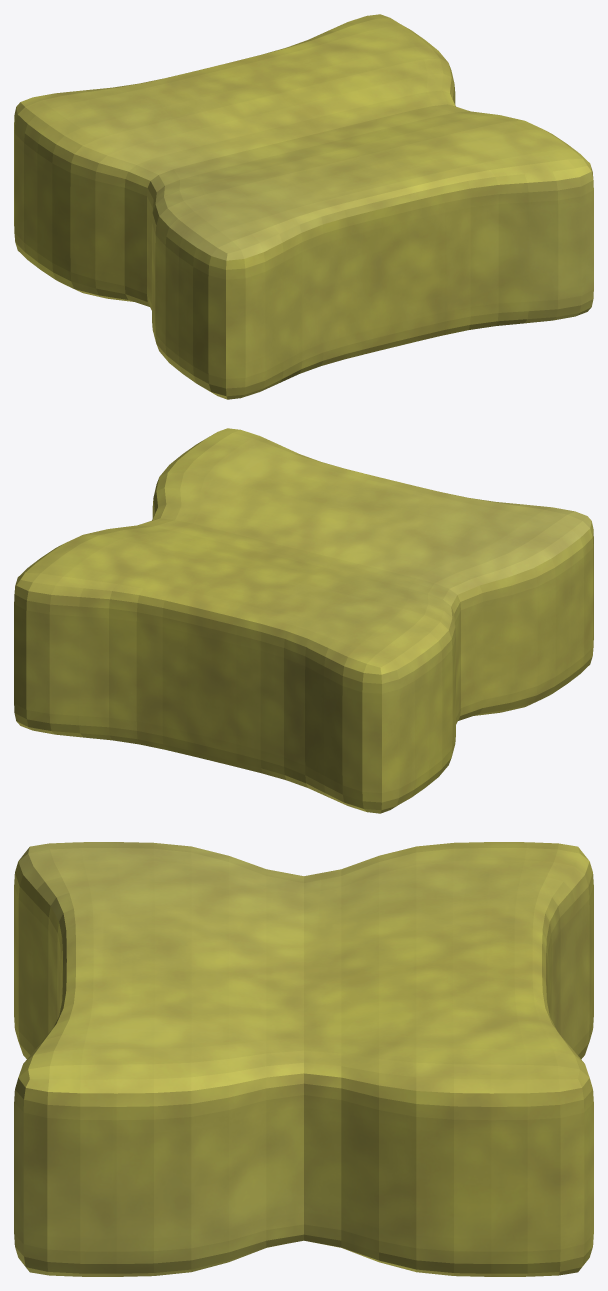
File: Croquette3.fbx
3 renders of one model, top to bottom at view 1: azimuth 30°, elevation 25°; view 2: azimuth 150°, elevation 25°; view 3: azimuth 270°, elevation 25°, orthographic. The views are drawn at different scales.
Parts seen in each view (by area): view 1: Cube; view 2: Cube; view 3: Cube.
Part boxes in pixels (x1,y1,x2,y2): Cube: (14, 14, 593, 399); Cube: (14, 428, 593, 813); Cube: (14, 842, 593, 1276).
Bounding box in the file's own units: 200 × 77.44 × 193.
